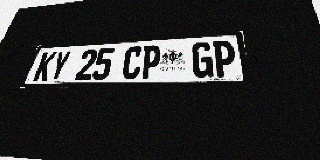2: (74, 49, 99, 81)
5: (91, 48, 115, 80)
C: (121, 46, 143, 80)
G: (192, 42, 213, 78)
K: (32, 51, 57, 82)
P: (213, 40, 237, 77), (139, 45, 162, 79)
Y: (47, 50, 72, 81)
